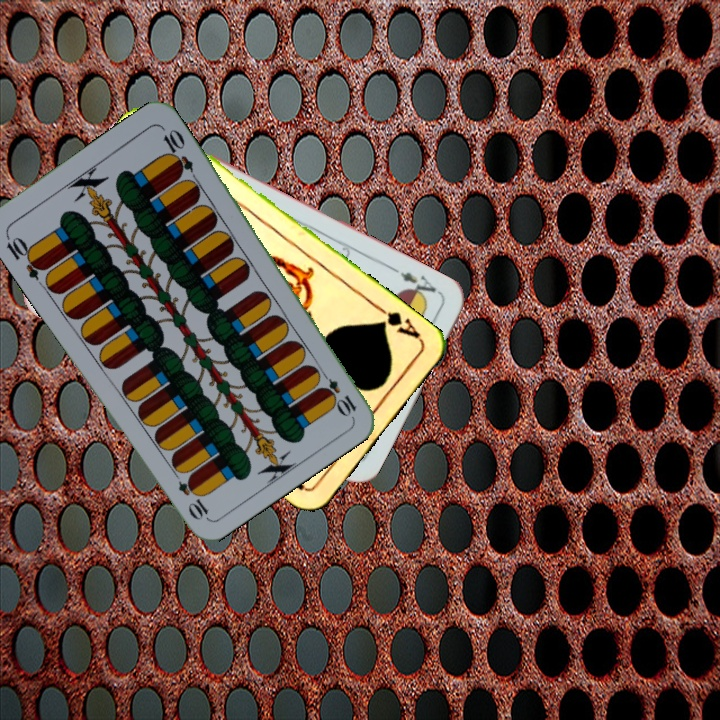E10: (2, 230, 49, 282), (314, 366, 359, 419)
EA: (389, 264, 444, 303)
GA: (372, 301, 423, 343)
